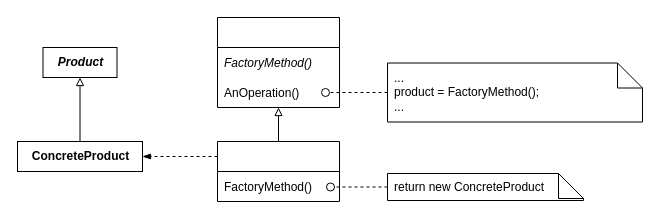
The diagram is 660 pixels wide and 219 high, and some of its shapes have lost their labels. The box of each missing label's shape, as (x1, y1, x2, y2) in pixels:
ConcreteCreator: (216, 140, 340, 202)
Creator: (216, 16, 340, 108)
